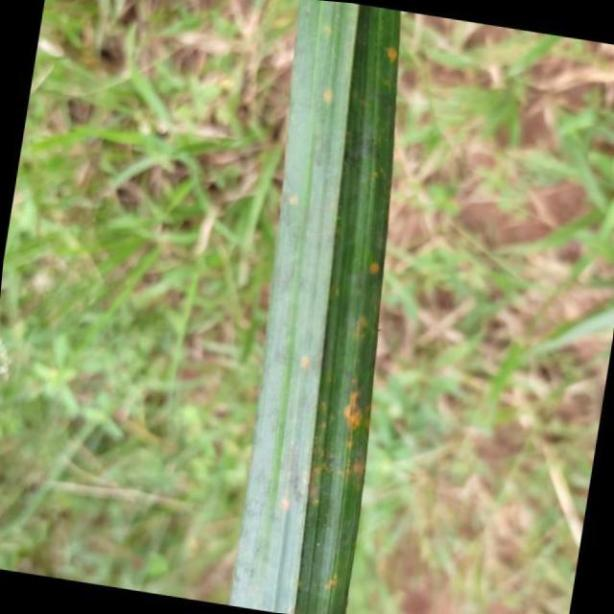Kalium: (235, 0, 405, 614)
